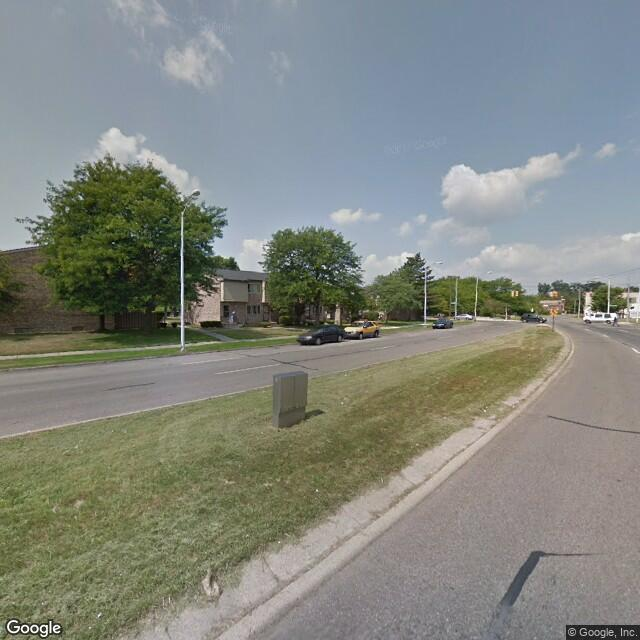litter: (199, 563, 222, 602), (96, 611, 108, 621)
